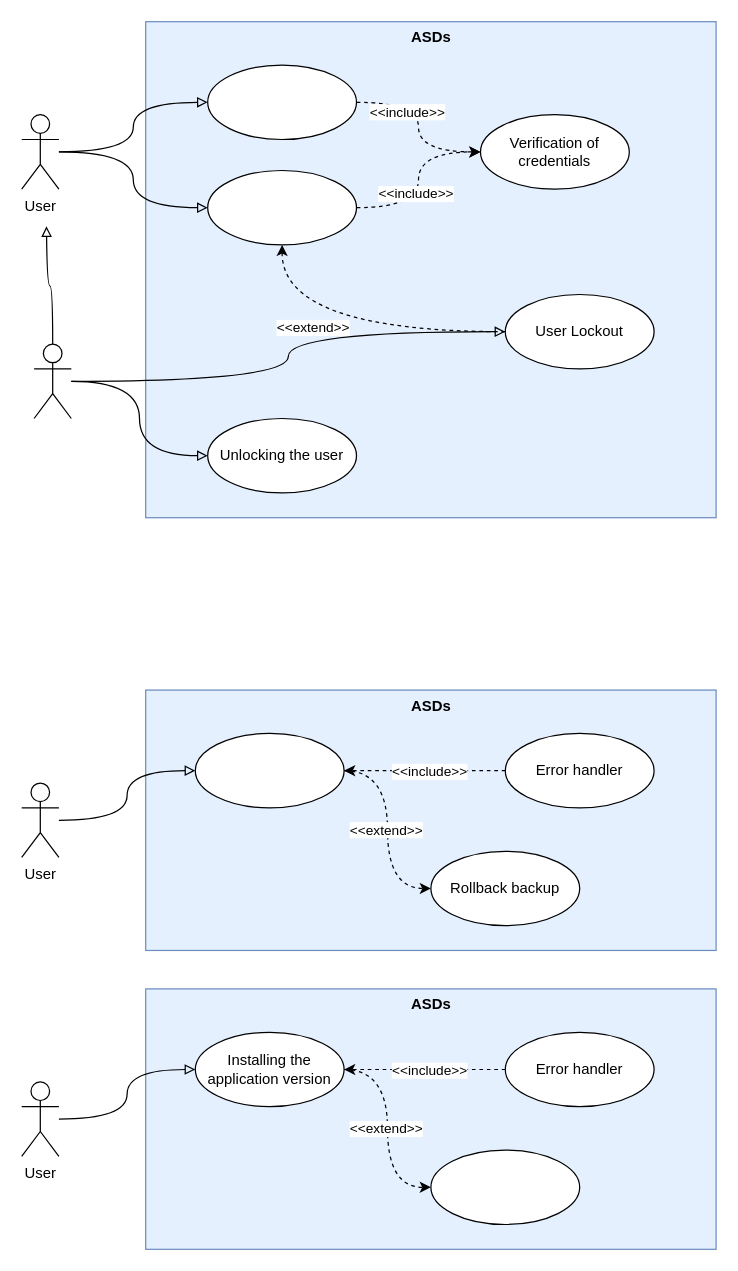
Some shapes in this 738 by 1271 pixel diagram are drawn without their labels. The shapes that lost their labels are listed below. From the top down, each one's centre as x and y in pixels, then its label:
At pixel 281 102: "Reset login/password".
At pixel 281 207: "Authorisation error".
At pixel 52 380: "Admin".
At pixel 269 770: "Create backup".
At pixel 505 1186: "Rollback version".
